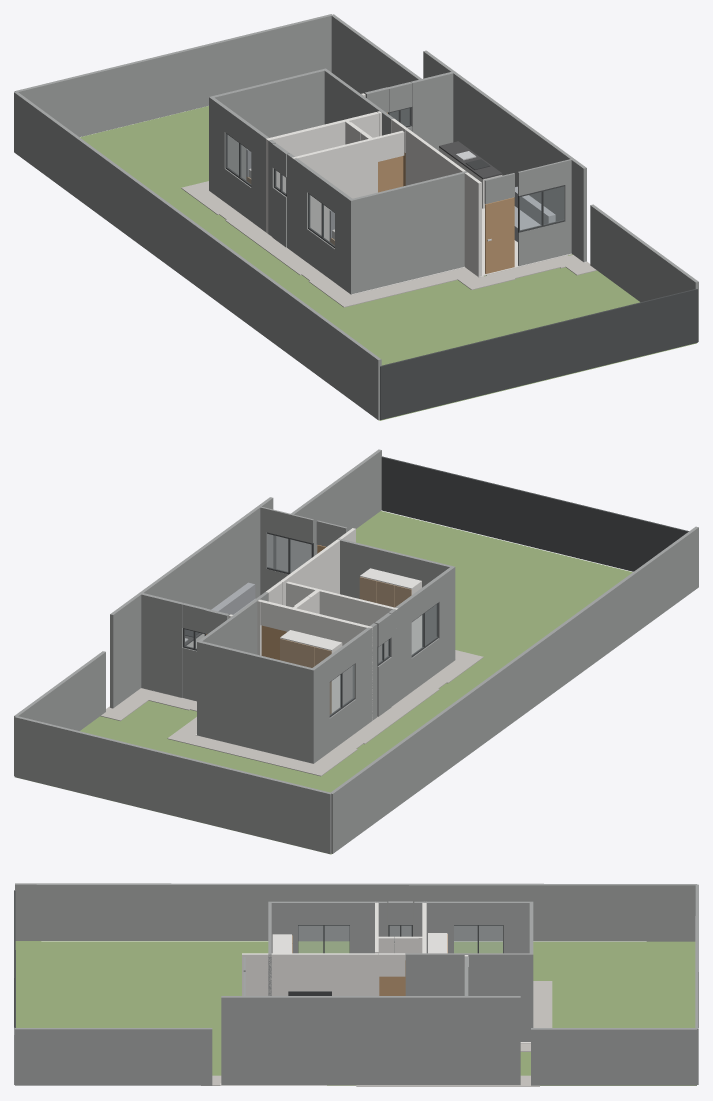
Rendered from casa.glb.
3 renders of one model, top to bottom at view 1: azimuth 30°, elevation 25°; view 2: azimuth 150°, elevation 25°; view 3: azimuth 270°, elevation 25°, orthographic. The views are drawn at different scales.
Visible parts, largest first — view 1: fachada, grama, esquadria, parede, concreto, vidro, door0_swing__porta, tecido, door1_swing__porta, granito, piso; view 2: fachada, grama, esquadria, parede, concreto, vidro, madeira, armario, tecido, door4_swing__porta; view 3: fachada, grama, parede, vidro, concreto, armario, esquadria, door5_swing__porta.
Boxes of the visible parts, x1,y1,x2,y2 form: fachada: (14,14,698,420); grama: (80,106,696,420); esquadria: (225,107,697,420); parede: (266,93,481,276); concreto: (181,181,596,307); vidro: (227,108,564,245); door0_swing__porta: (485,197,514,273); tecido: (246,149,555,241); door1_swing__porta: (378,156,403,192); granito: (439,141,502,179); piso: (351,208,587,294); fachada: (14,449,698,854); grama: (21,511,632,854); esquadria: (183,456,688,717); parede: (228,528,397,720); concreto: (100,650,483,776); vidro: (185,534,437,714); madeira: (280,577,411,714); armario: (186,568,421,712); tecido: (211,582,255,614); door4_swing__porta: (261,625,286,659); fachada: (15,883,698,1085); grama: (15,941,696,1085); parede: (242,902,468,995); vidro: (298,926,502,952); concreto: (201,981,552,1086); armario: (272,933,447,953); esquadria: (14,890,503,1084); door5_swing__porta: (379,976,404,995).
Size of the model in its own units: 10.06 by 2.83 by 19.91.
